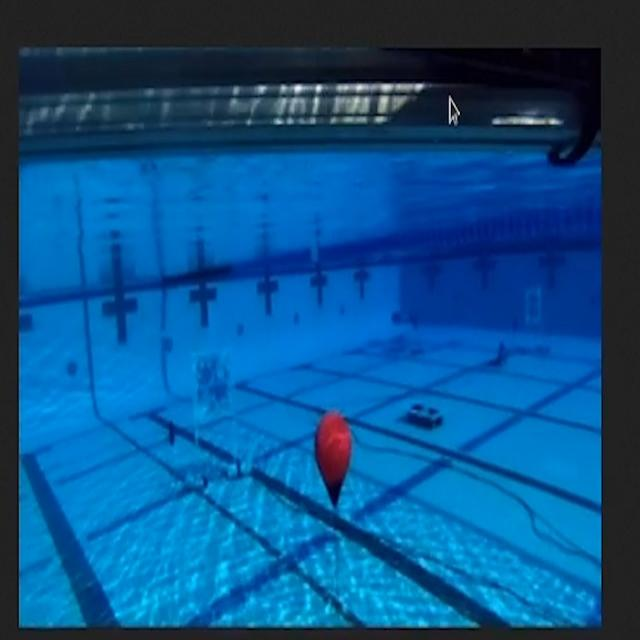Buoy: (309, 414, 359, 512)
